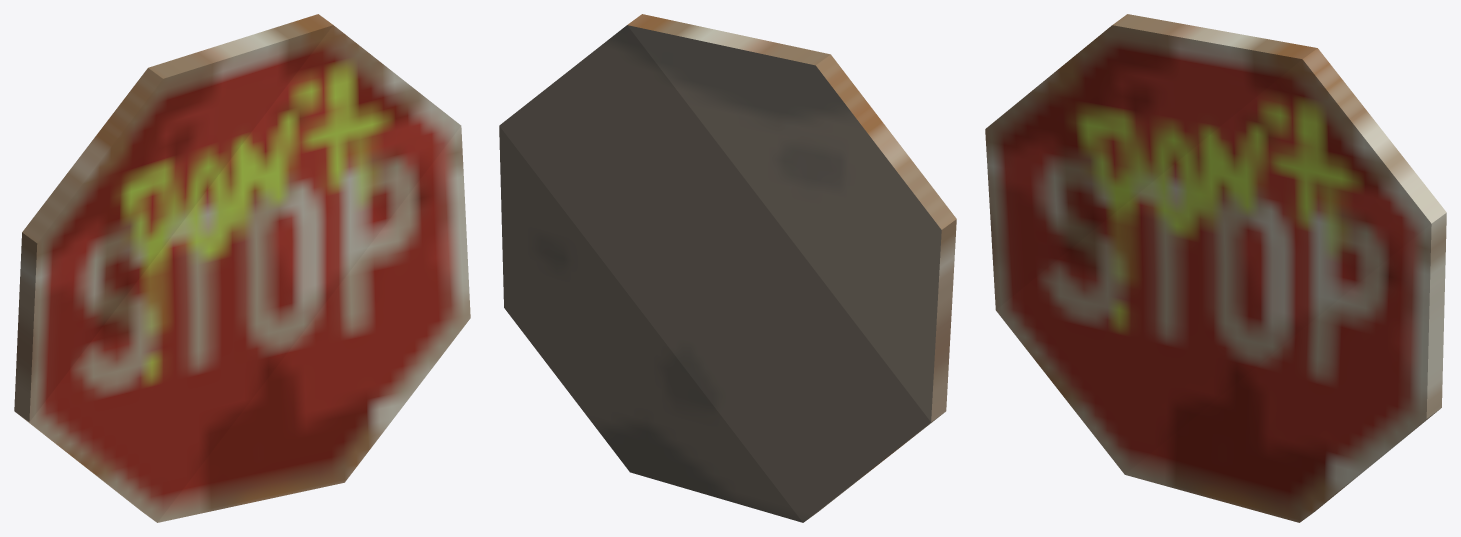
The model's file is SM_Prop_Sign_Warning_02.obj.
The picture shows the model from 3 angles, left to right: view 1: azimuth 30°, elevation 25°; view 2: azimuth 150°, elevation 25°; view 3: azimuth 330°, elevation 25°; orthographic projection.
Visible parts, largest first — view 1: SM_Prop_Sign_Warning_02_0; view 2: SM_Prop_Sign_Warning_02_0; view 3: SM_Prop_Sign_Warning_02_0.
Part boxes in pixels (bbox=[...]): SM_Prop_Sign_Warning_02_0: bbox=[14, 14, 470, 522]; SM_Prop_Sign_Warning_02_0: bbox=[499, 14, 956, 522]; SM_Prop_Sign_Warning_02_0: bbox=[985, 14, 1446, 522].
Bounding box in the file's own units: 1.05 × 1.04 × 0.101.
1 material, 1 textured.
